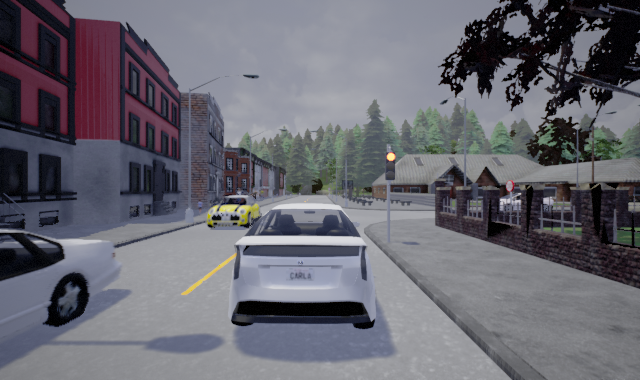vehicle: (1, 213, 123, 370), (227, 203, 378, 329), (202, 195, 262, 230), (484, 192, 558, 213)
